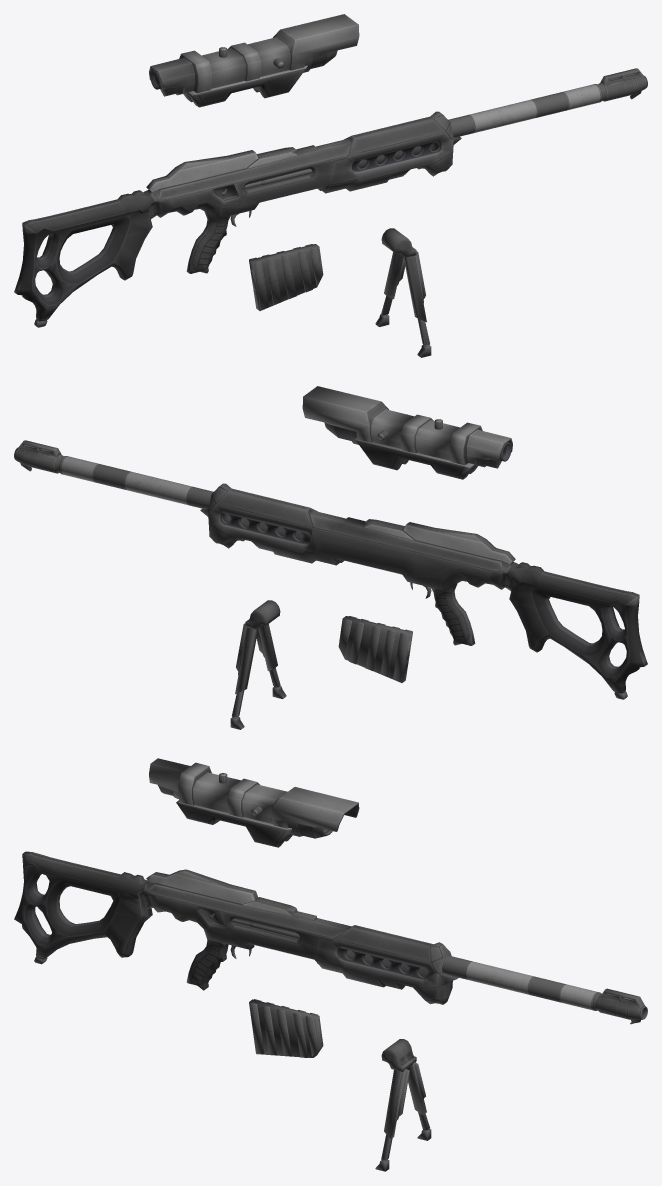
File: sniperfbx.fbx
3 renders of one model, top to bottom at view 1: azimuth 30°, elevation 25°; view 2: azimuth 150°, elevation 25°; view 3: azimuth 330°, elevation 25°, orthographic.
Visible parts, largest first — view 1: Cube, Cube.003, Cube.001, Cube.002; view 2: Cube, Cube.003, Cube.001, Cube.002; view 3: Cube, Cube.003, Cube.001, Cube.002.
Part boxes in pixels (x1,y1,x2,y2): Cube: [14, 68, 647, 327]; Cube.003: [149, 14, 359, 107]; Cube.001: [249, 244, 323, 310]; Cube.002: [375, 228, 431, 357]; Cube: [14, 440, 647, 699]; Cube.003: [302, 386, 512, 479]; Cube.001: [338, 616, 412, 682]; Cube.002: [230, 600, 286, 729]; Cube: [14, 851, 647, 1024]; Cube.003: [149, 758, 359, 847]; Cube.001: [249, 999, 323, 1057]; Cube.002: [375, 1039, 431, 1171].
Size of the model in its own units: 981 by 499 by 123.
